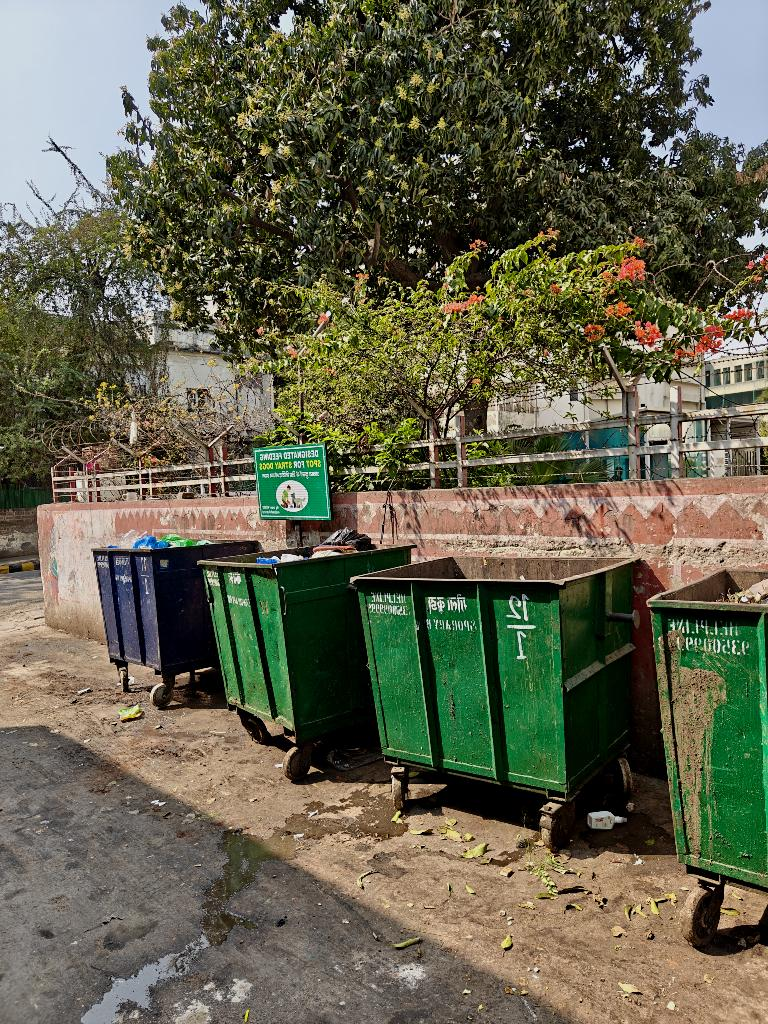dustbin: (348, 538, 652, 840), (189, 517, 425, 792), (654, 553, 768, 964), (83, 520, 253, 722)
